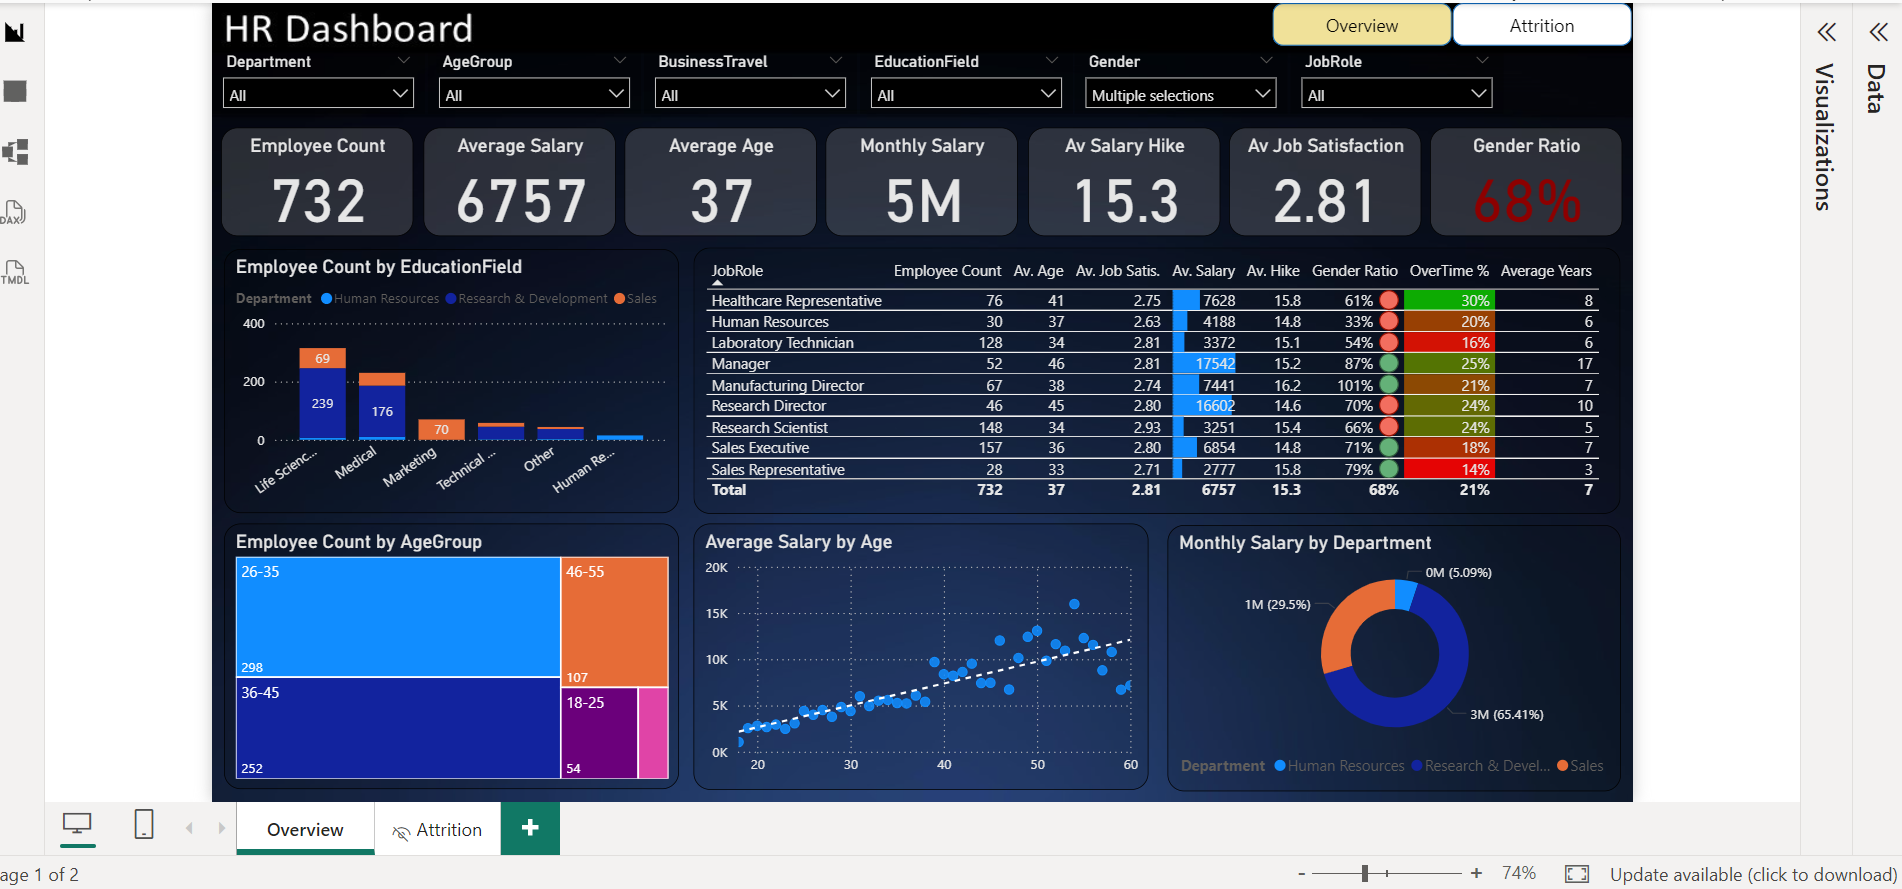

What the dashboard file says about the page in this screenshot:
{"tool":"powerbi","page":{"name":"Overview","canvas":[1280,720],"ordinal":0},"visuals":[{"type":"slicer","fields":{"Values":["HR_Analytics.Department"]},"box":[0,39,192,60.7],"z":0},{"type":"card","title":"Employee Count","fields":{"Values":["HR_Analytics.Employee Count"]},"box":[8.7,112.7,173.4,98.2],"z":1000},{"type":"slicer","fields":{"Values":["HR_Analytics.AgeGroup"]},"box":[194.3,39,192.1,60.7],"z":2000},{"type":"slicer","fields":{"Values":["HR_Analytics.BusinessTravel"]},"box":[388.8,39,192.1,60.7],"z":3000},{"type":"slicer","fields":{"Values":["HR_Analytics.EducationField"]},"box":[583.3,39,192.1,60.7],"z":4000},{"type":"slicer","fields":{"Values":["HR_Analytics.Gender"]},"box":[777.8,39,192.1,60.7],"z":5000},{"type":"slicer","fields":{"Values":["HR_Analytics.JobRole"]},"box":[972.3,39,192.1,60.7],"z":6000},{"type":"card","title":"Gender Ratio","fields":{"Values":["HR_Analytics.Gender Ratio"]},"box":[1098,112.7,173.4,98.2],"z":7000},{"type":"card","title":"Average Age","fields":{"Values":["HR_Analytics.Average Age"]},"box":[371.8,112.7,173.4,98.2],"z":8000},{"type":"card","title":"Av Salary Hike","fields":{"Values":["HR_Analytics.Average Salary Hike"]},"box":[734.9,112.7,173.4,98.2],"z":9000},{"type":"card","title":"Average Salary","fields":{"Values":["HR_Analytics.Average Salary"]},"box":[190.2,112.7,173.4,98.2],"z":10000},{"type":"card","title":"Monthly Salary","fields":{"Values":["HR_Analytics.Monthly Salary"]},"box":[553.3,112.7,173.4,98.2],"z":11000},{"type":"card","title":"Av Job Satisfaction","fields":{"Values":["HR_Analytics.Average Job Satisfaction"]},"box":[916.4,112.7,173.4,98.2],"z":12000},{"type":"columnChart","title":"Employee Count by EducationField","fields":{"Category":["HR_Analytics.EducationField"],"Y":["HR_Analytics.Employee Count"],"Series":["HR_Analytics.Department"]},"box":[10.5,221.2,409.7,238.3],"z":13000},{"type":"treemap","fields":{"Values":["HR_Analytics.Employee Count"],"Group":["HR_Analytics.AgeGroup"]},"box":[10.5,469.3,409.7,239.6],"z":14000},{"type":"tableEx","fields":{"Values":["HR_Analytics.JobRole","HR_Analytics.Employee Count","HR_Analytics.Average Age","HR_Analytics.Average Job Satisfaction","HR_Analytics.Average Salary","HR_Analytics.Average Salary Hike","HR_Analytics.Gender Ratio","HR_Analytics.OverTime %","HR_Analytics.Average Years"]},"box":[433.9,220.4,835,239.8],"z":16000},{"type":"scatterChart","fields":{"X":["HR_Analytics.Age"],"Y":["HR_Analytics.Average Salary"]},"box":[433.4,468.9,410,240],"z":17000},{"type":"donutChart","fields":{"Category":["HR_Analytics.Department"],"Y":["HR_Analytics.Monthly Salary"]},"box":[861.4,470,408.6,240],"z":19000},{"type":"shape","box":[955.5,0,161.7,38.6],"z":20000},{"type":"shape","box":[1118.3,0,161.7,38.6],"z":21000}]}

Visuals, with their boxes on the page's 1280x720 design canvas (x1, y1, x2, y2). These are canvas units, not pixel positions in the 1902x889 screenshot, which may show the page scaled, cropped or inside an application window:
slicer - HR_Analytics.Department: [0, 39, 192, 100]
"Employee Count" card: [9, 113, 182, 211]
slicer - HR_Analytics.AgeGroup: [194, 39, 386, 100]
slicer - HR_Analytics.BusinessTravel: [389, 39, 581, 100]
slicer - HR_Analytics.EducationField: [583, 39, 775, 100]
slicer - HR_Analytics.Gender: [778, 39, 970, 100]
slicer - HR_Analytics.JobRole: [972, 39, 1164, 100]
"Gender Ratio" card: [1098, 113, 1271, 211]
"Average Age" card: [372, 113, 545, 211]
"Av Salary Hike" card: [735, 113, 908, 211]
"Average Salary" card: [190, 113, 364, 211]
"Monthly Salary" card: [553, 113, 727, 211]
"Av Job Satisfaction" card: [916, 113, 1090, 211]
"Employee Count by EducationField" columnChart: [10, 221, 420, 460]
treemap - HR_Analytics.Employee Count x HR_Analytics.AgeGroup: [10, 469, 420, 709]
tableEx - HR_Analytics.JobRole x HR_Analytics.Employee Count: [434, 220, 1269, 460]
scatterChart - HR_Analytics.Age x HR_Analytics.Average Salary: [433, 469, 843, 709]
donutChart - HR_Analytics.Department x HR_Analytics.Monthly Salary: [861, 470, 1270, 710]
shape: [956, 0, 1117, 39]
shape: [1118, 0, 1280, 39]
